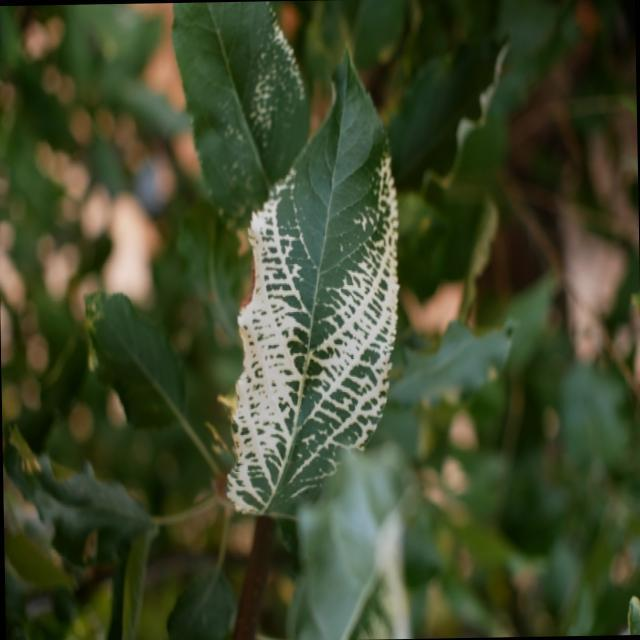Mosaic Virus: (248, 39, 396, 548)
